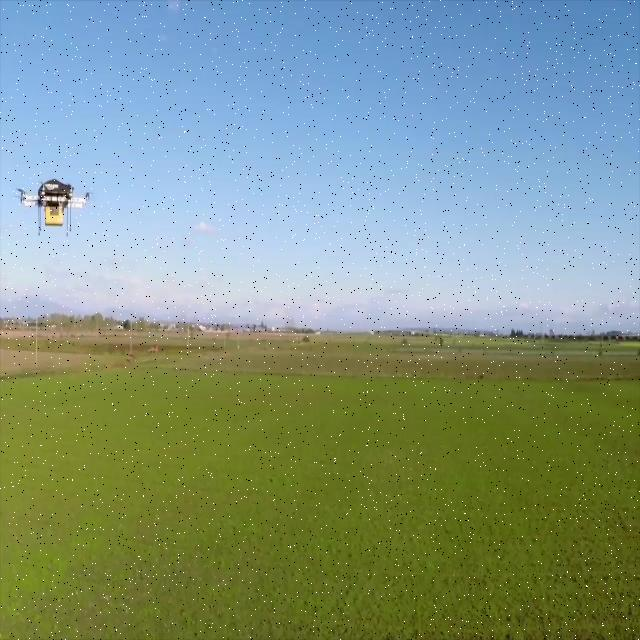UAV: (15, 179, 93, 237)
